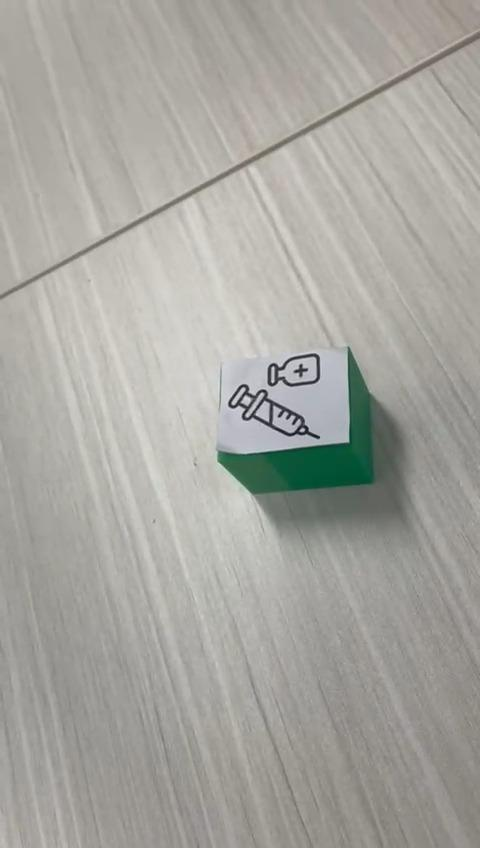antiseptic cream: (214, 343, 374, 495)
